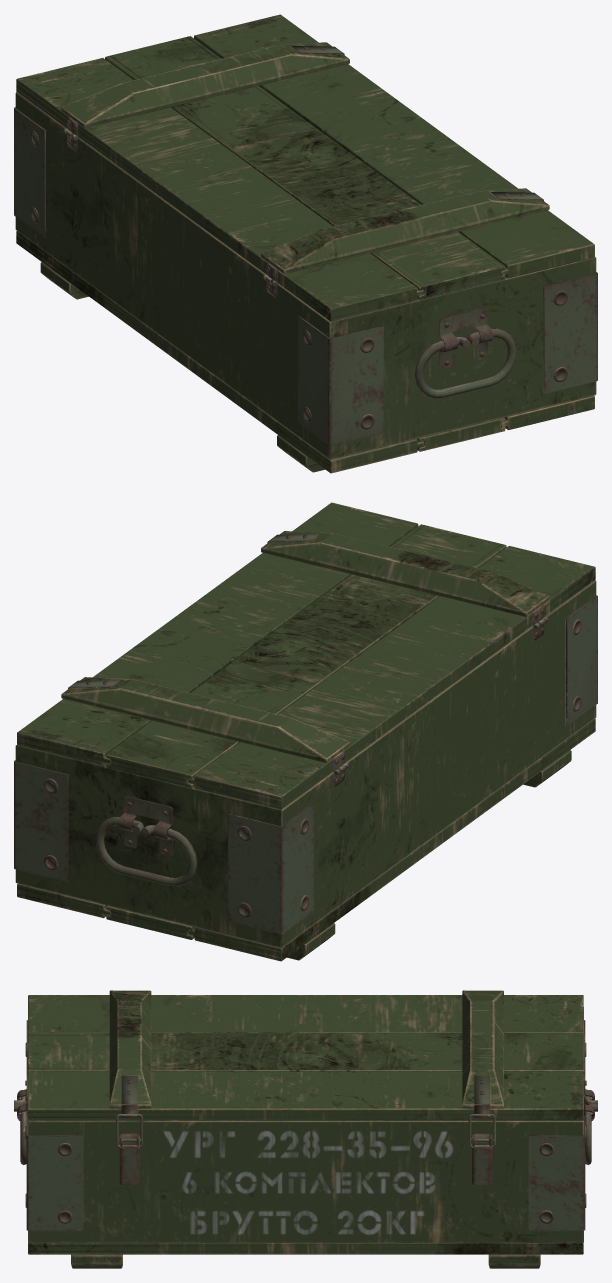
File: millitary_box.glb
The picture shows the model from 3 angles, top to bottom: view 1: azimuth 30°, elevation 25°; view 2: azimuth 150°, elevation 25°; view 3: azimuth 270°, elevation 25°; orthographic projection. The views are drawn at different scales.
Parts seen in each view (by area): view 1: box_final_2; view 2: box_final_2; view 3: box_final_2.
Boxes of the visible parts, box(x1,y1,x2,y2) form: box_final_2: box(14, 14, 597, 473); box_final_2: box(14, 502, 597, 961); box_final_2: box(14, 990, 597, 1268).
Size of the model in its own units: 2.15 by 1.46 by 4.31.
1 material, 1 textured.
